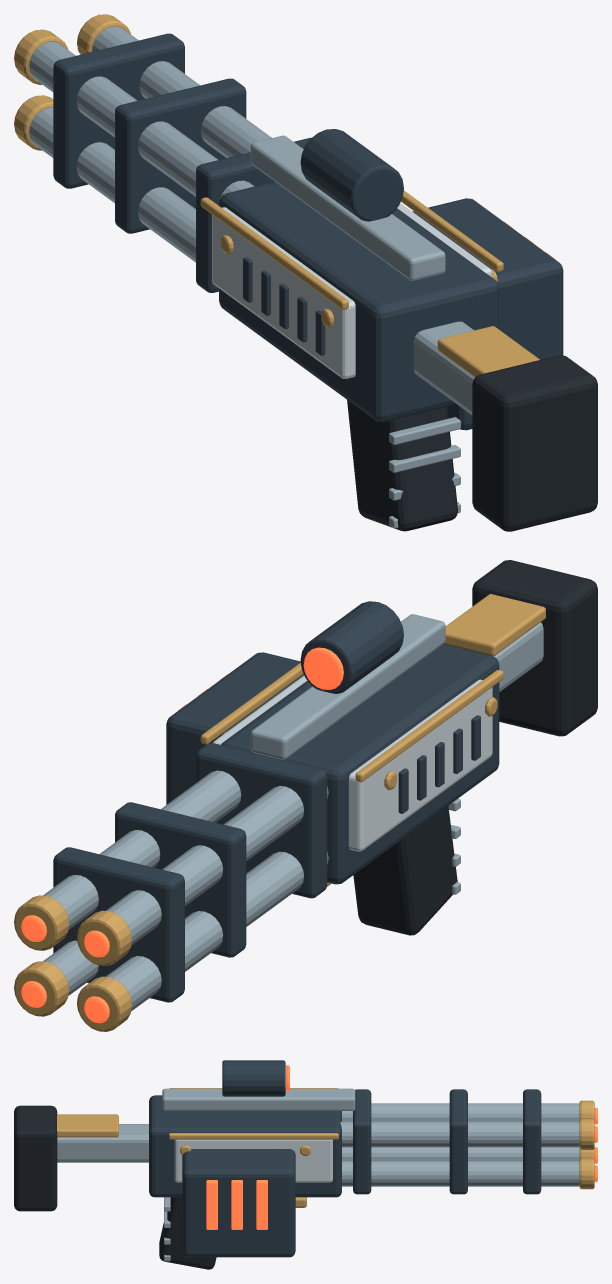
Rendered from lmg.glb.
3 views of the same model, one above another, from view 1: azimuth 30°, elevation 25°; view 2: azimuth 150°, elevation 25°; view 3: azimuth 270°, elevation 25° (orthographic). The views are drawn at different scales.
Parts seen in each view (by area): view 1: ZW4_lmg; view 2: ZW4_lmg; view 3: ZW4_lmg.
Boxes of the visible parts, x1,y1,x2,y2 form: ZW4_lmg: [14, 14, 597, 531]; ZW4_lmg: [14, 560, 597, 1031]; ZW4_lmg: [14, 1060, 597, 1269].
Size of the model in its own units: 0.514 by 0.6654 by 1.75.
